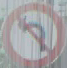Don't turn left: (6, 2, 56, 58)
